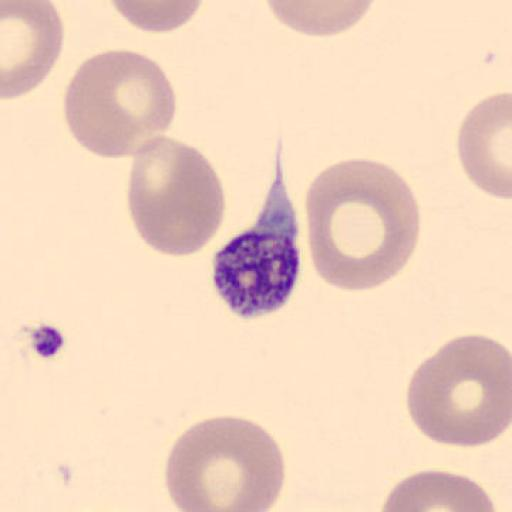Platelet: (208, 212, 304, 320)
RBC: (305, 156, 420, 294), (61, 47, 178, 160), (125, 134, 226, 260), (405, 332, 511, 449), (164, 413, 287, 512), (2, 0, 66, 100), (455, 90, 512, 202), (377, 468, 496, 512), (264, 0, 378, 38), (107, 0, 203, 35)
